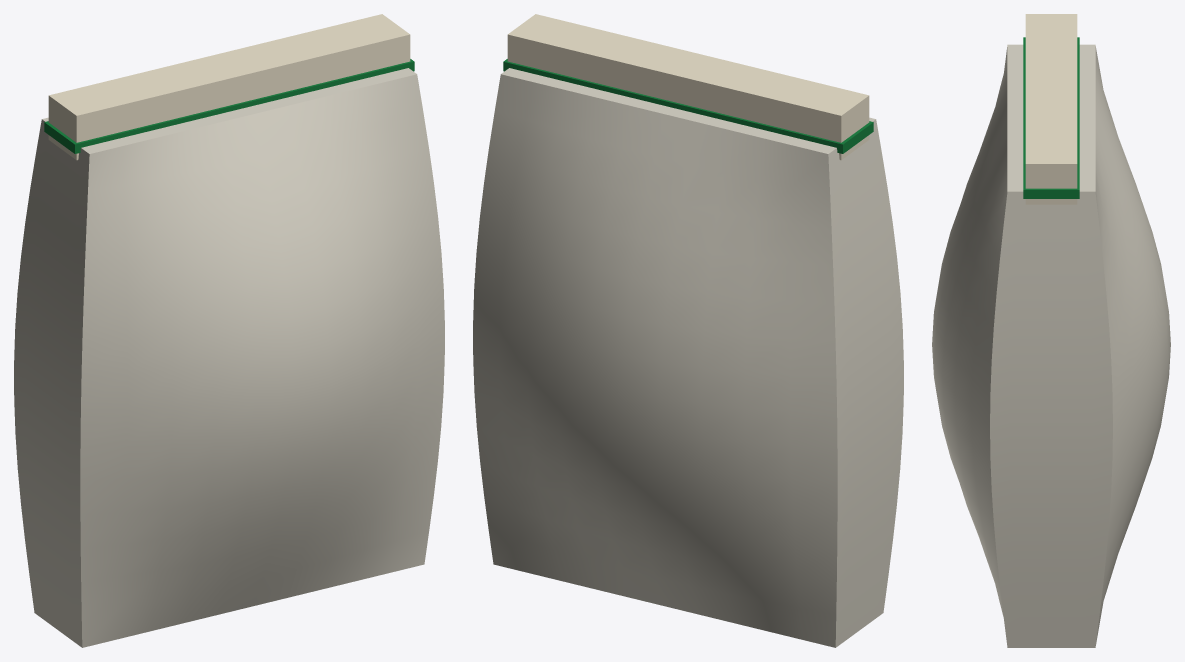
The model's file is rice-bag.glb.
The picture shows the model from 3 angles, left to right: view 1: azimuth 30°, elevation 25°; view 2: azimuth 150°, elevation 25°; view 3: azimuth 270°, elevation 25°; orthographic projection. The views are drawn at different scales.
Parts seen in each view (by area): view 1: Sack_Body, Sack_Top_Crimp, Stitch_Thread; view 2: Sack_Body, Sack_Top_Crimp, Stitch_Thread; view 3: Sack_Body, Sack_Top_Crimp, Stitch_Thread.
Boxes of the visible parts, x1,y1,x2,y2 form: Sack_Body: [14, 68, 444, 647]; Sack_Top_Crimp: [48, 14, 410, 160]; Stitch_Thread: [44, 59, 414, 153]; Sack_Body: [473, 68, 903, 647]; Sack_Top_Crimp: [507, 14, 869, 160]; Stitch_Thread: [503, 59, 873, 153]; Sack_Body: [932, 44, 1170, 647]; Sack_Top_Crimp: [1025, 14, 1077, 204]; Stitch_Thread: [1023, 37, 1079, 198].
Size of the model in its own units: 0.2402 by 0.33 by 0.1482.
